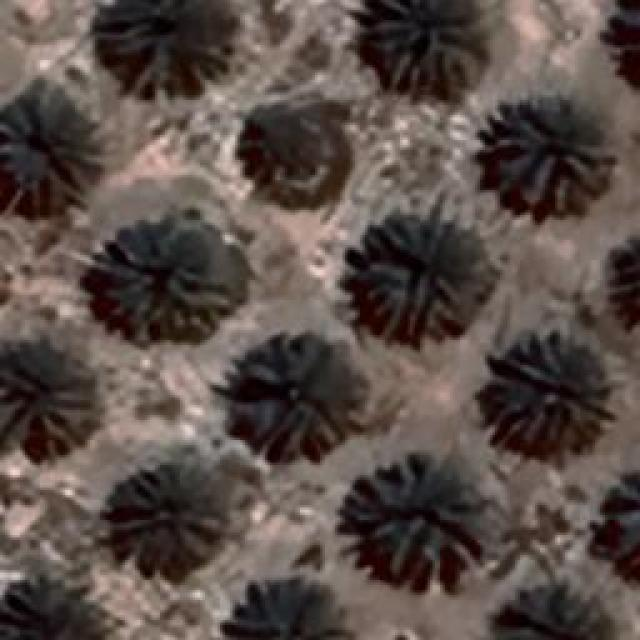PalmTree: (342, 450, 488, 588), (90, 218, 238, 340), (232, 335, 366, 463), (358, 210, 480, 340), (485, 330, 610, 452), (490, 92, 610, 210), (90, 0, 235, 95), (0, 79, 102, 212), (110, 462, 225, 568), (365, 0, 480, 92), (0, 355, 95, 460), (222, 574, 352, 638), (0, 574, 110, 638), (488, 592, 630, 638), (602, 235, 640, 330), (602, 0, 640, 95), (608, 470, 638, 570)
